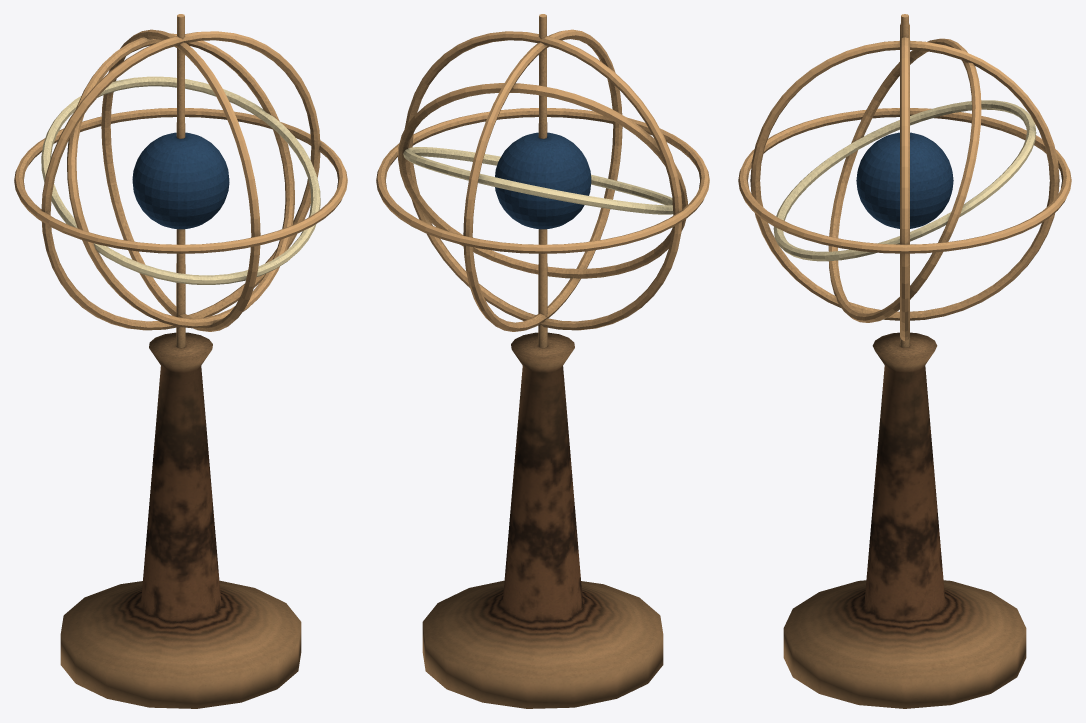
The model's file is dg_astrolabio.glb.
The picture shows the model from 3 angles, left to right: view 1: azimuth 30°, elevation 25°; view 2: azimuth 150°, elevation 25°; view 3: azimuth 270°, elevation 25°; orthographic projection.
Parts seen in each view (by area): view 1: dg_astrolabio_tronco; view 2: dg_astrolabio_tronco; view 3: dg_astrolabio_tronco.
Boxes of the visible parts, x1,y1,x2,y2 form: dg_astrolabio_tronco: (14,14,347,708); dg_astrolabio_tronco: (376,14,709,708); dg_astrolabio_tronco: (738,14,1071,708).
Bounding box in the file's own units: 0.824 × 1.75 × 0.824.
1 material, 1 textured.
